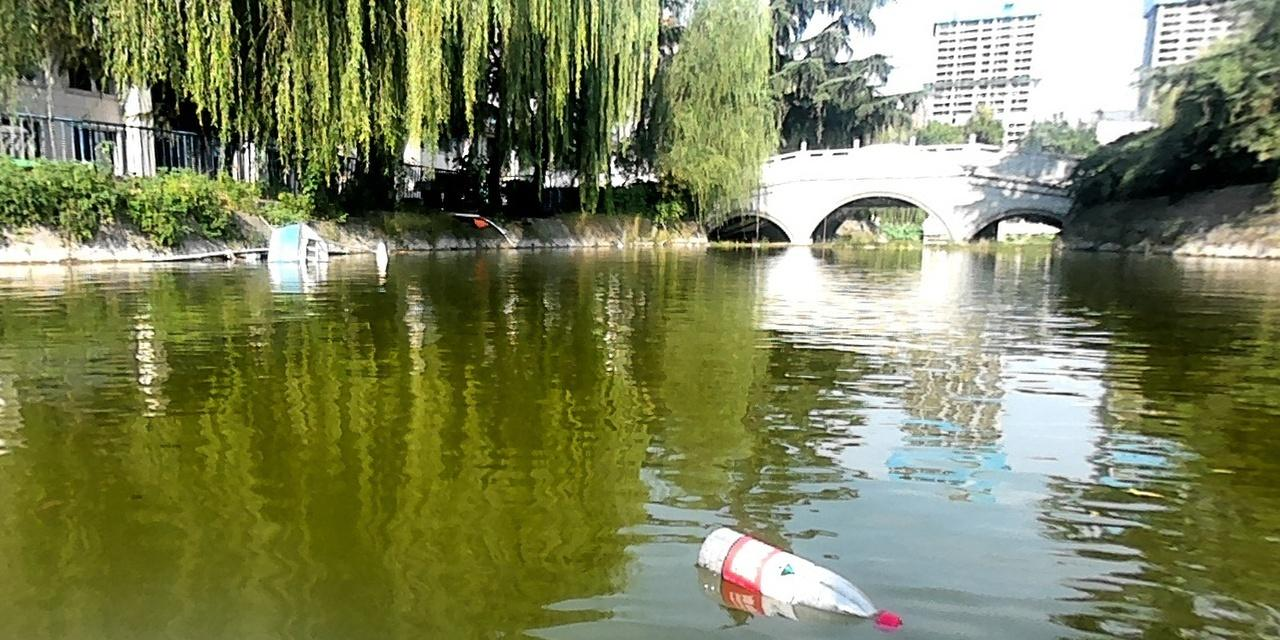bottle: (694, 526, 898, 628)
